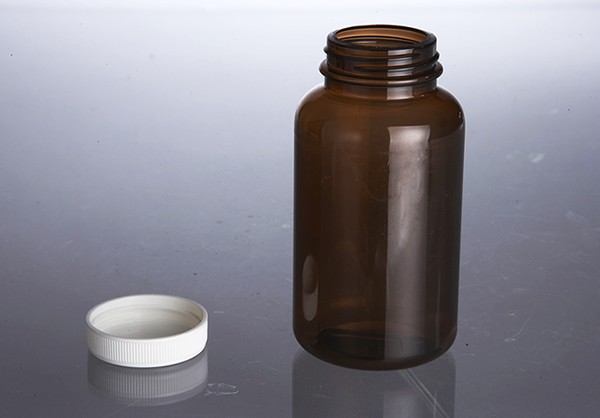medicinejar: (61, 17, 504, 380)
